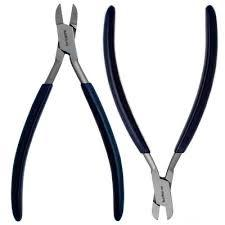pliers: (101, 4, 219, 224), (9, 1, 124, 224)
